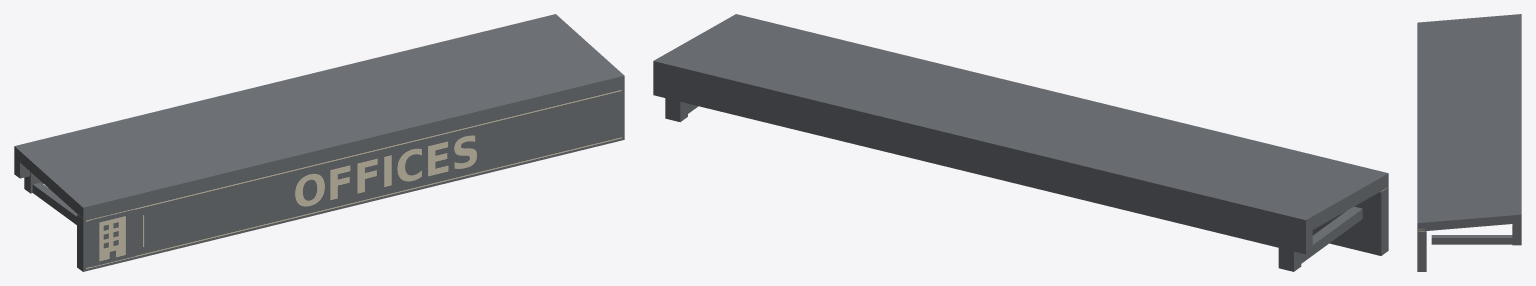
File: building-business-offices.glb
The picture shows the model from 3 angles, left to right: view 1: azimuth 30°, elevation 25°; view 2: azimuth 150°, elevation 25°; view 3: azimuth 270°, elevation 25°; orthographic projection. The views are drawn at different scales.
Parts seen in each view (by area): view 1: business-offices; view 2: business-offices; view 3: business-offices.
Boxes of the visible parts, left/top/right/bottom form: business-offices: left=14, top=14, right=624, bottom=271; business-offices: left=653, top=14, right=1388, bottom=271; business-offices: left=1417, top=14, right=1521, bottom=271.
Bounding box in the file's own units: 3 × 0.4 × 0.66.
3 materials, 1 textured.
